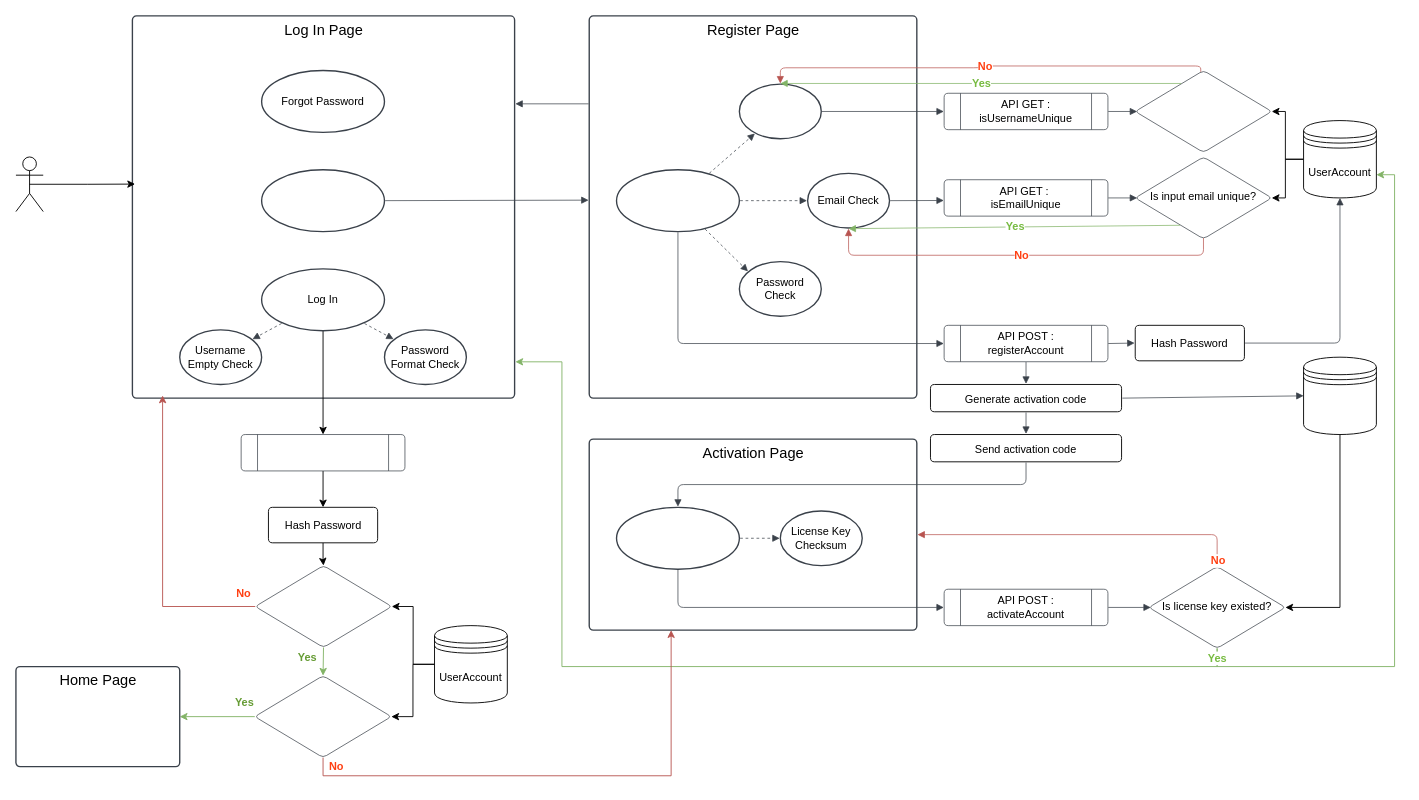
This 1419x800 diagram has some shape labels left out. Here are the shapes that lost their labels. From the top down, the box of each, then its label:
(738, 83, 822, 139): Username Check
(1134, 70, 1272, 152): Is input username unique?
(15, 156, 43, 212): Actor
(261, 169, 385, 232): Sign Up
(615, 169, 740, 232): Create Account
(1303, 356, 1376, 435): License
(240, 434, 405, 471): API POST : login
(615, 506, 740, 569): Activate
(254, 565, 392, 647): Is account existed ?
(254, 675, 391, 757): Is account activated ?
